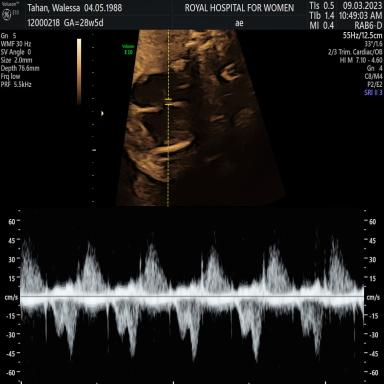Ultrasound-Waves: (26, 213, 361, 384)
